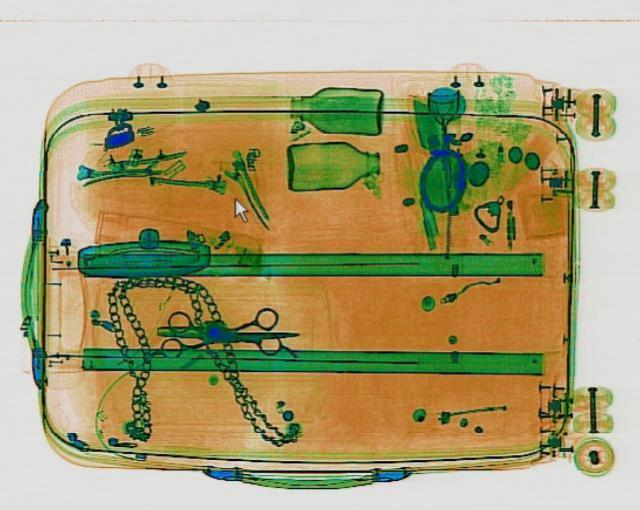Scissors: (157, 308, 297, 359), (153, 304, 283, 354)
